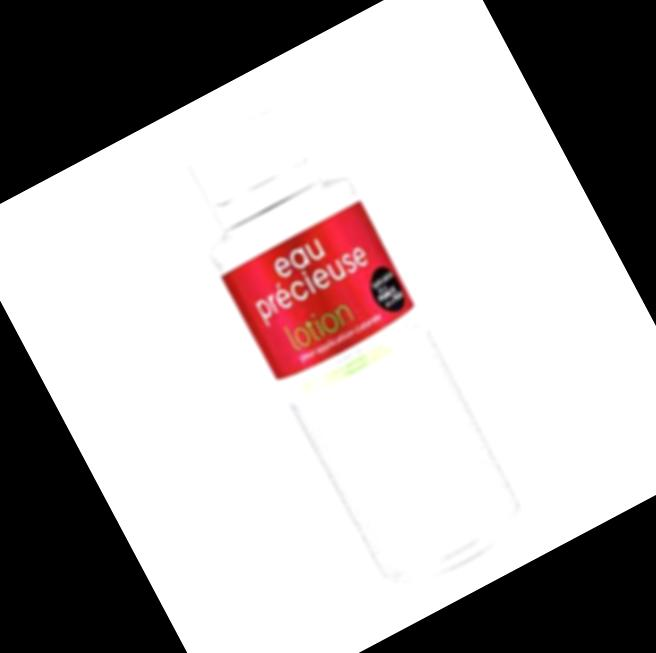cosmetic: (160, 90, 523, 583)
